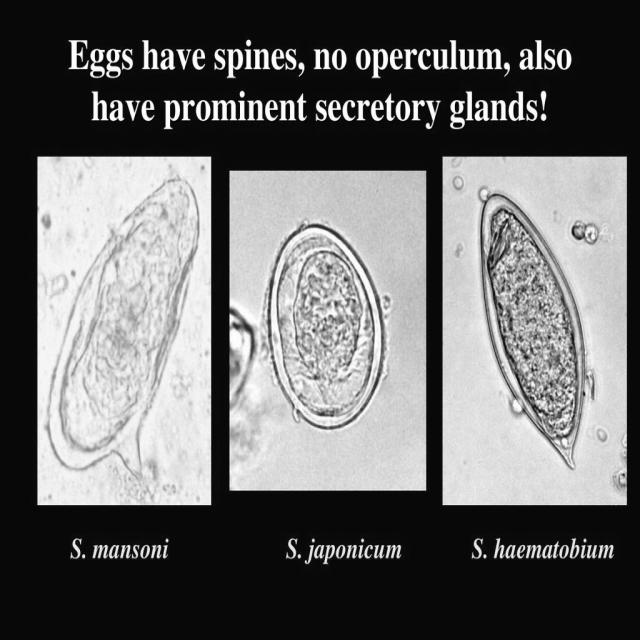Schistosoma: (44, 170, 204, 483), (474, 188, 587, 470), (266, 220, 388, 432)
